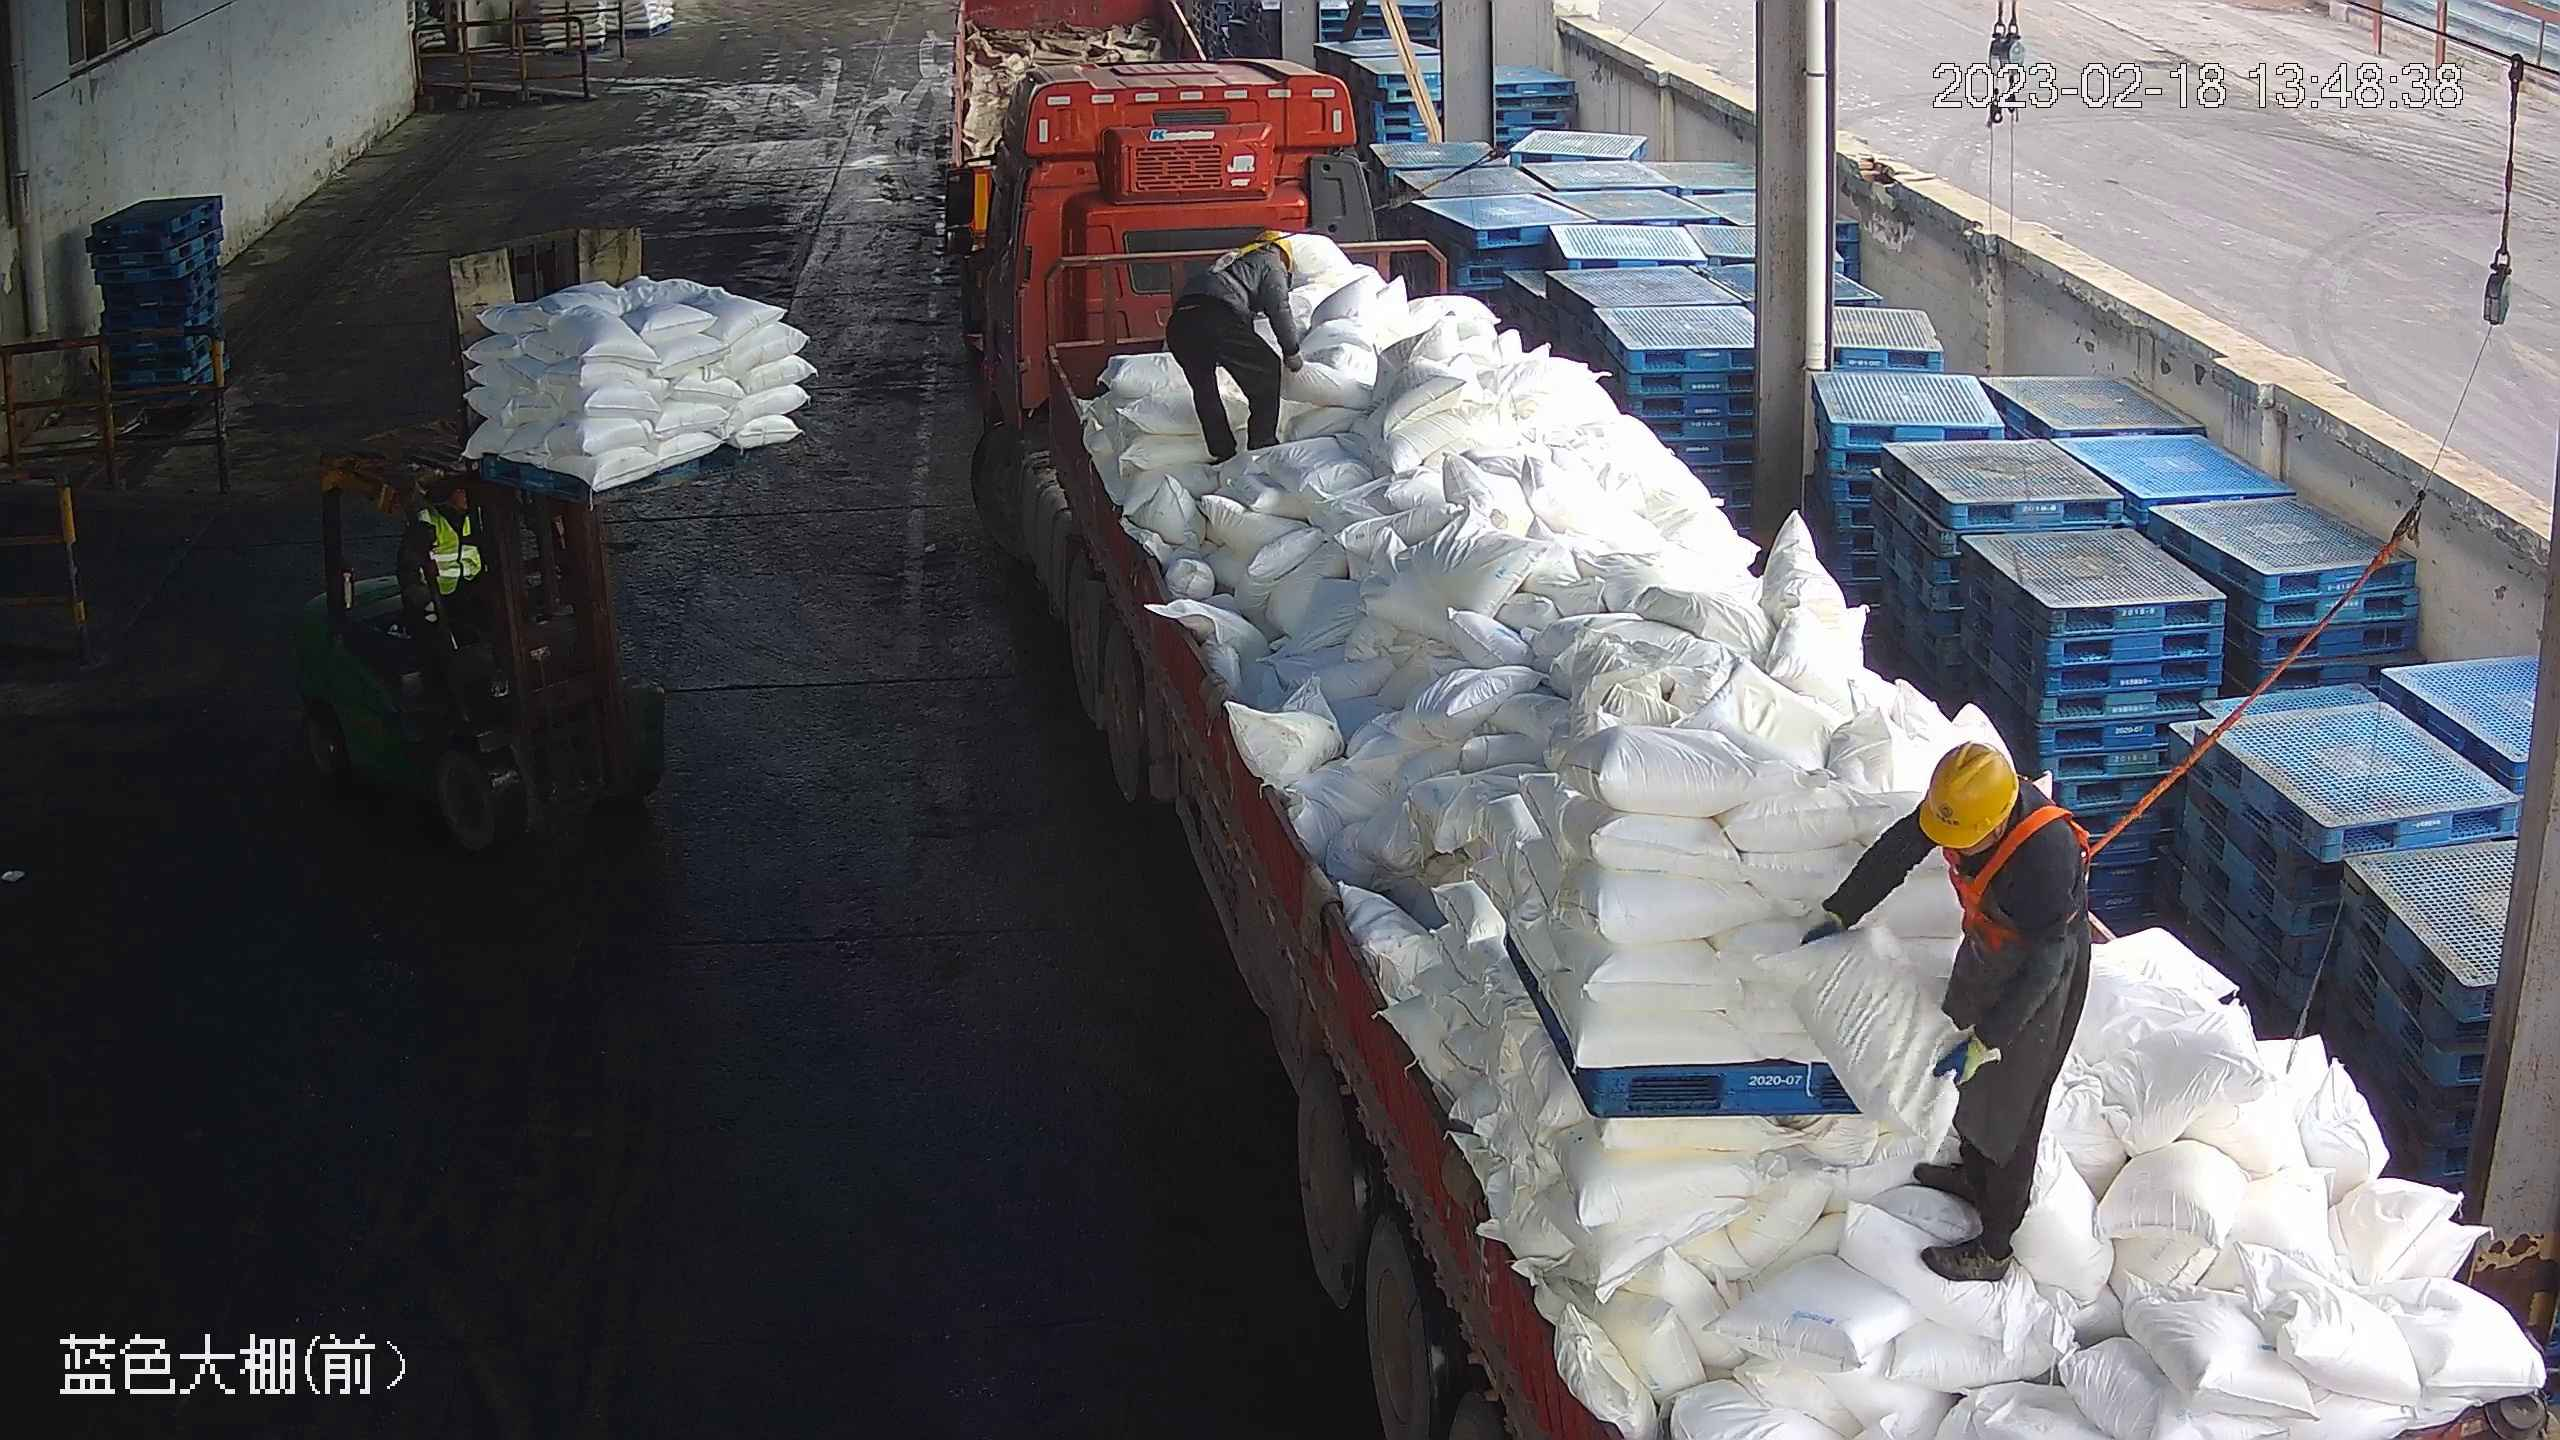belt: (1946, 780, 2120, 947), (1193, 236, 1280, 299)
head: (1893, 742, 2093, 937), (1210, 230, 1297, 301)
helmet: (1915, 740, 2016, 848), (1254, 231, 1296, 276)
people: (1805, 740, 2098, 1279), (1167, 229, 1308, 466)
truck: (924, 48, 2558, 1436)
